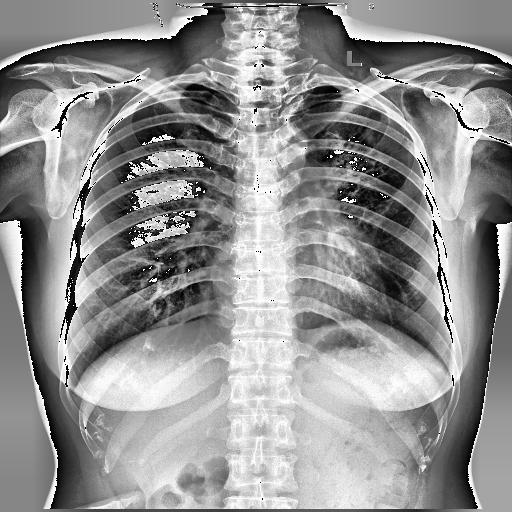11- Pleural thickening: (310, 84, 347, 94)
13- Pulmonary fibrosis: (320, 120, 394, 224), (327, 114, 398, 196)
6- Infiltration: (320, 120, 394, 224)
